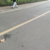others: (1, 10, 50, 37)
